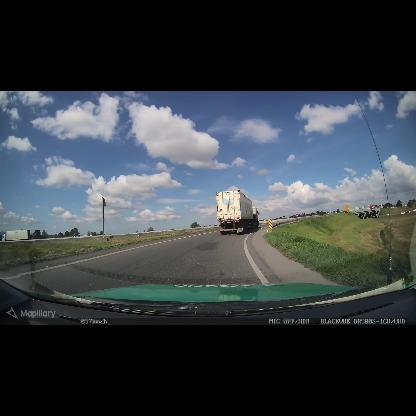O-MP: (268, 219, 272, 229)
R-2: (296, 214, 299, 217)
